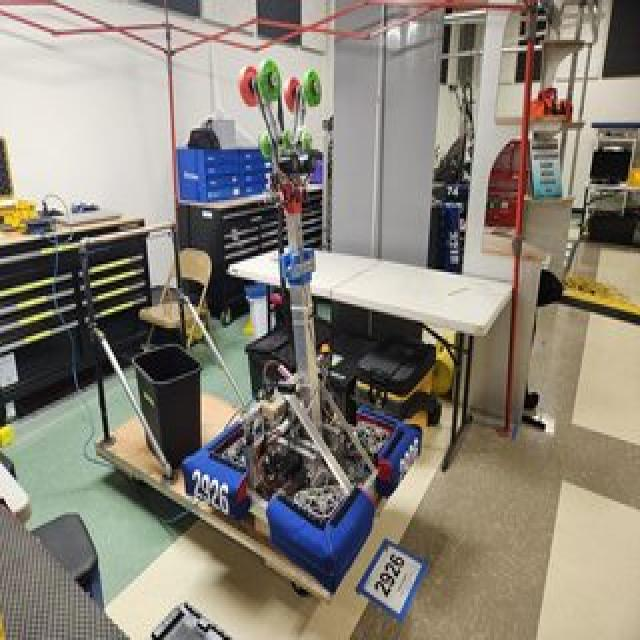robot: (174, 47, 424, 575)
